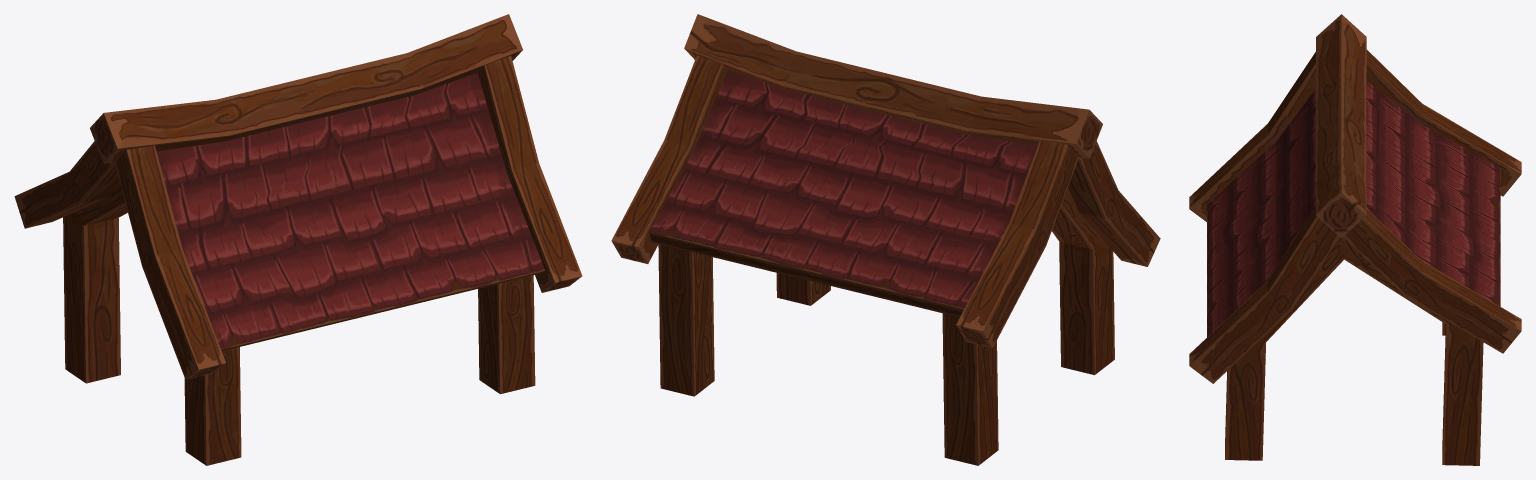
File: shed.glb
3 views of the same model, side by side, from view 1: azimuth 30°, elevation 25°; view 2: azimuth 150°, elevation 25°; view 3: azimuth 270°, elevation 25° (orthographic). The views are drawn at different scales.
Visible parts, largest first — view 1: Cube.013_Material_0; view 2: Cube.013_Material_0; view 3: Cube.013_Material_0.
Part boxes in pixels (x1,y1,x2,y2): Cube.013_Material_0: (14, 14, 582, 465); Cube.013_Material_0: (611, 14, 1160, 465); Cube.013_Material_0: (1189, 14, 1521, 465).
Size of the model in its own units: 7.19 by 5.46 by 5.66.
1 material, 1 textured.
